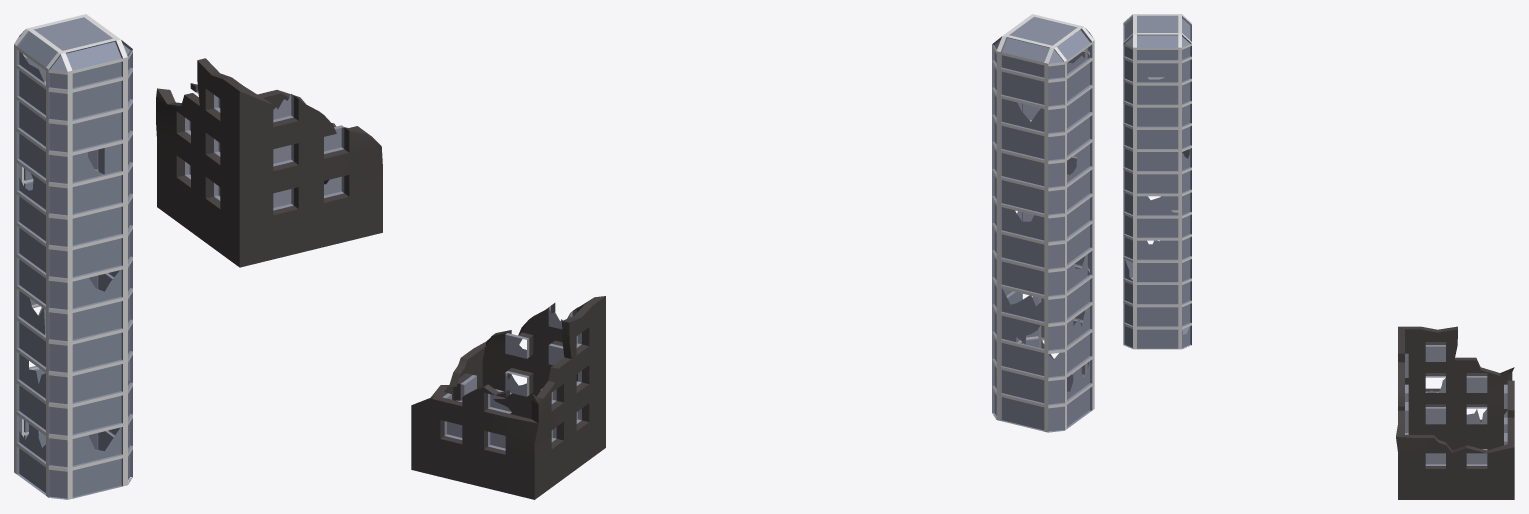
Rendered from ruined_buildings.fbx.
3 views of the same model, side by side, from view 1: azimuth 30°, elevation 25°; view 2: azimuth 150°, elevation 25°; view 3: azimuth 270°, elevation 25° (orthographic). The views are drawn at different scales.
Visible parts, largest first — view 1: pCube39, Building18; view 2: pCube39, Building18; view 3: pCube39, Building18.
Boxes of the visible parts, x1,y1,x2,y2 form: pCube39: (14, 14, 132, 499); Building18: (156, 58, 382, 267); pCube39: (992, 14, 1094, 432); Building18: (411, 296, 605, 499); pCube39: (1123, 14, 1191, 349); Building18: (1396, 326, 1514, 499).
Bounding box in the file's own units: 6.2 × 5 × 5.71.
